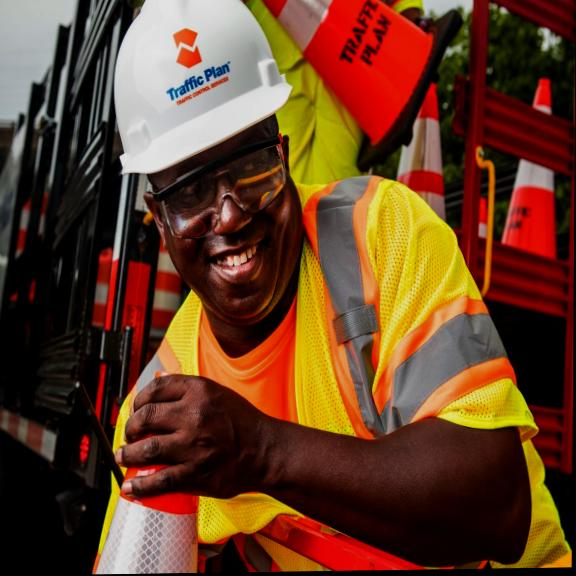safety_vest: (149, 264, 574, 552)
